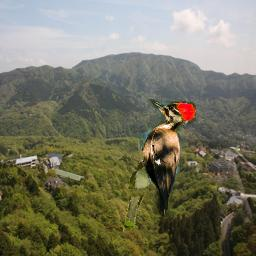Cuckoo: (123, 160, 156, 233)
Woodpecker: (136, 99, 196, 217)
